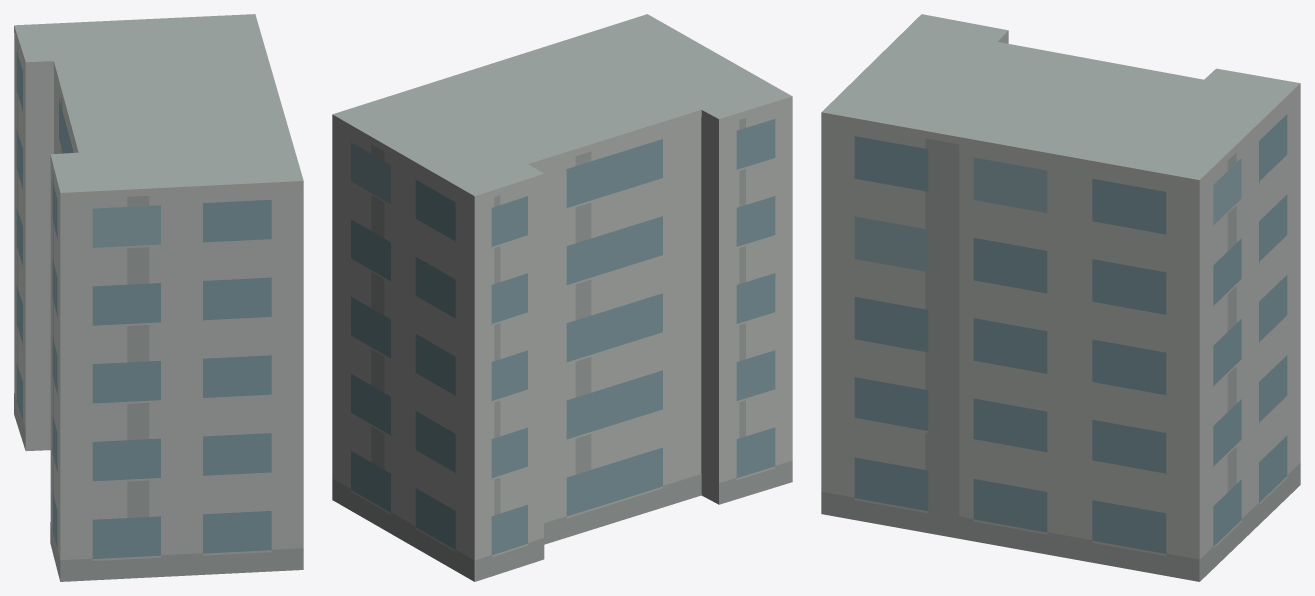
The model's file is survey-upis-32523474.glb.
3 views of the same model, side by side, from view 1: azimuth 30°, elevation 25°; view 2: azimuth 150°, elevation 25°; view 3: azimuth 270°, elevation 25° (orthographic). The views are drawn at different scales.
Parts seen in each view (by area): view 1: survey-upis-32523474.tmp; view 2: survey-upis-32523474.tmp; view 3: survey-upis-32523474.tmp.
Part boxes in pixels (x1=…): survey-upis-32523474.tmp: x1=14, y1=14, x2=303, y2=581; survey-upis-32523474.tmp: x1=332, y1=14, x2=792, y2=581; survey-upis-32523474.tmp: x1=821, y1=14, x2=1300, y2=581.
Bounding box in the file's own units: 11.72 × 13.2 × 14.28.
